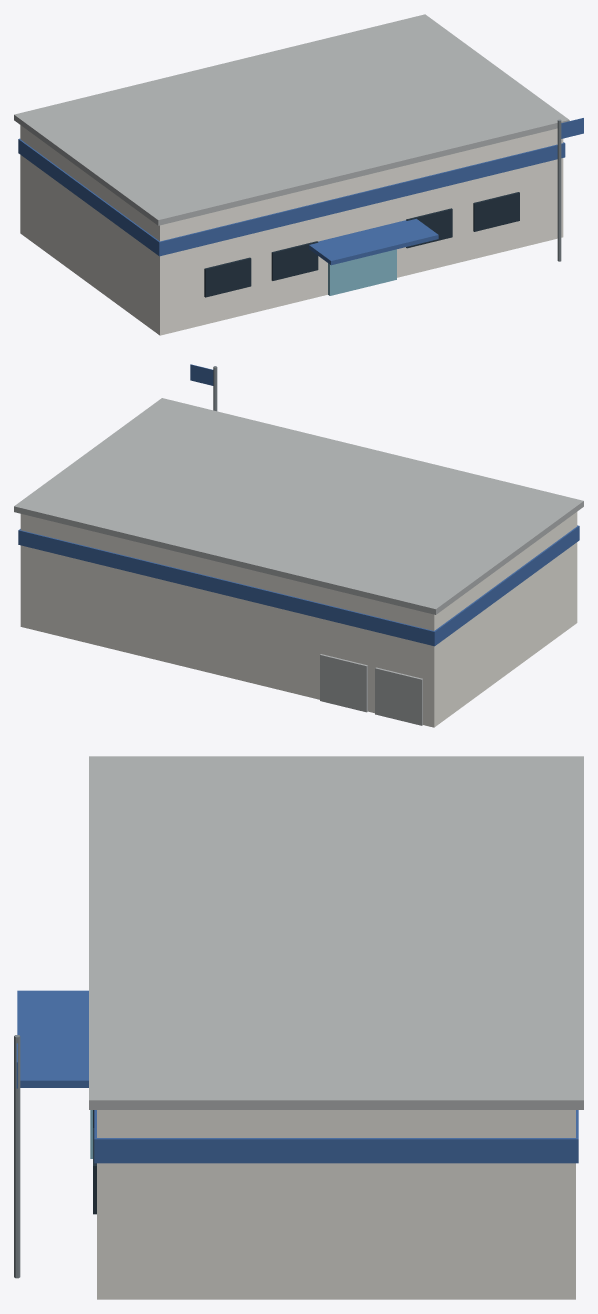
Rendered from police.glb.
The picture shows the model from 3 angles, top to bottom: view 1: azimuth 30°, elevation 25°; view 2: azimuth 150°, elevation 25°; view 3: azimuth 270°, elevation 25°; orthographic projection. The views are drawn at different scales.
Visible parts, largest first — view 1: Cube.001; view 2: Cube.001; view 3: Cube.001.
Boxes of the visible parts, left/top/right/bottom form: Cube.001: left=14, top=14, right=583, bottom=335; Cube.001: left=14, top=364, right=583, bottom=727; Cube.001: left=14, top=756, right=583, bottom=1299.
Size of the model in its own units: 30.6 by 10 by 21.42.
